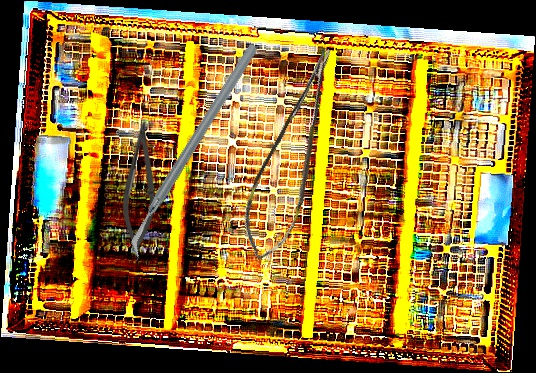Chopper: (70, 41, 318, 262)
Micro Scissor: (224, 44, 370, 267), (122, 121, 155, 252)
